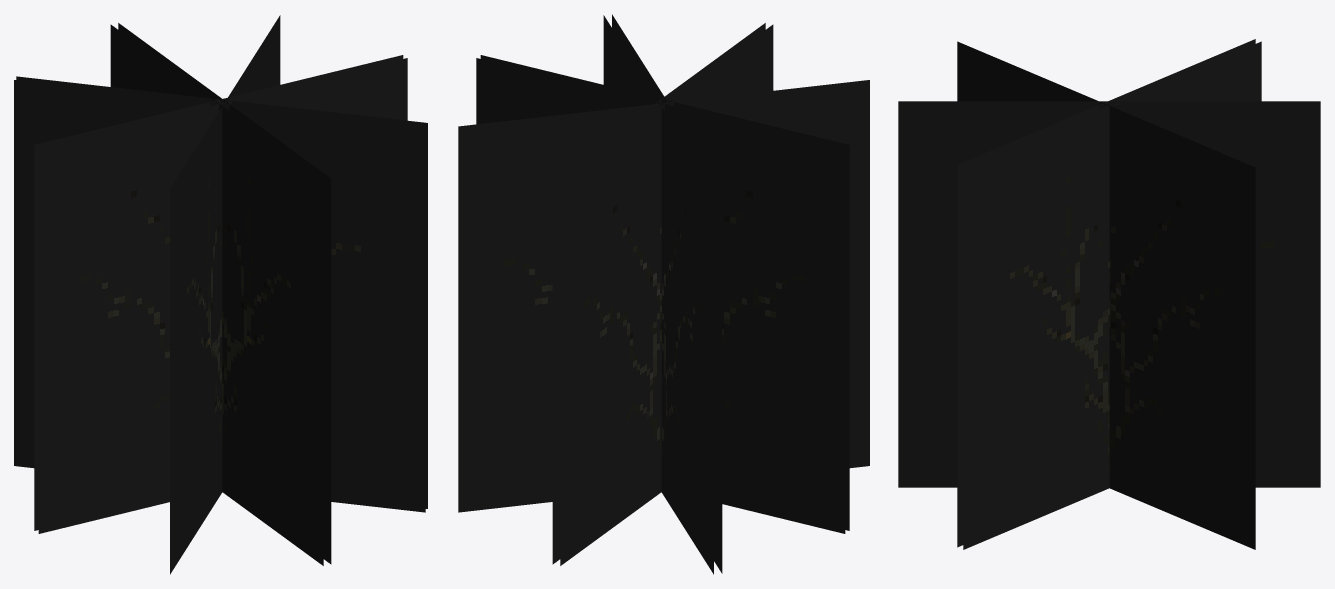
Rendered from bush03_winter.glb.
3 renders of one model, left to right at view 1: azimuth 30°, elevation 25°; view 2: azimuth 150°, elevation 25°; view 3: azimuth 270°, elevation 25°, orthographic.
Visible parts, largest first — view 1: bush03; view 2: bush03; view 3: bush03.
Part boxes in pixels (bbox=[...]): bush03: bbox=[14, 15, 427, 574]; bush03: bbox=[458, 14, 869, 574]; bush03: bbox=[898, 39, 1320, 549].
Bounding box in the file's own units: 1.5 × 1.5 × 1.5.
1 material, 1 textured.
